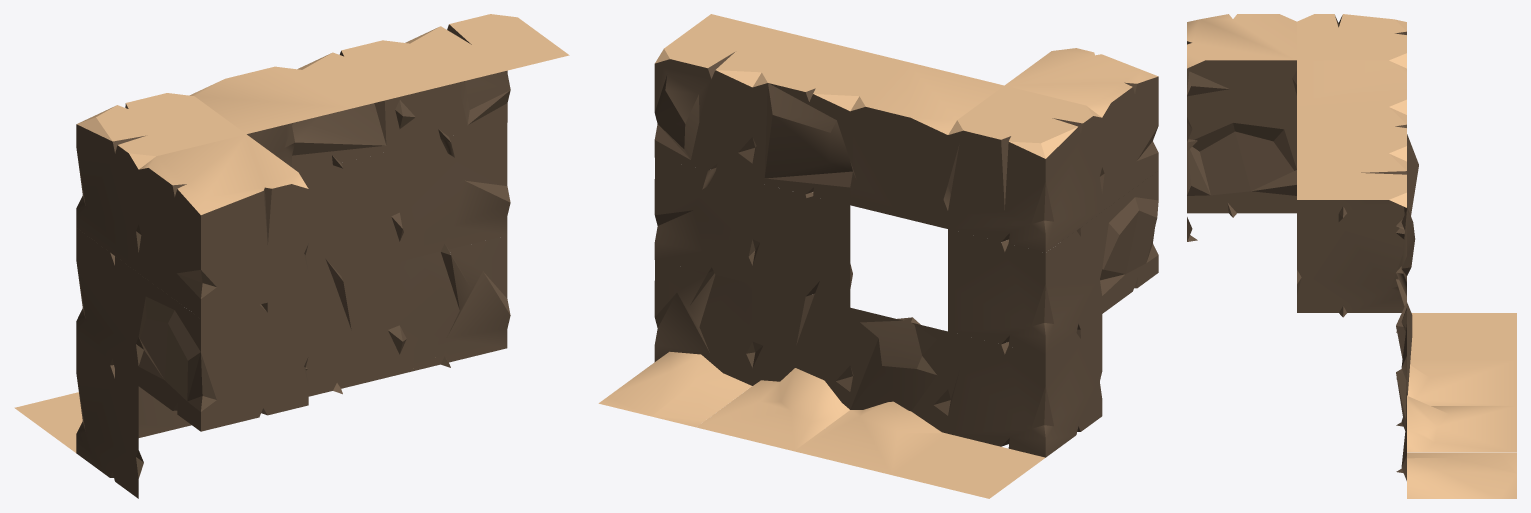
File: Modular_Rocks_Assets.FBX
3 views of the same model, side by side, from view 1: azimuth 30°, elevation 25°; view 2: azimuth 150°, elevation 25°; view 3: azimuth 270°, elevation 25° (orthographic). The views are drawn at different scales.
Parts seen in each view (by area): view 1: Rocks_Corner_01, Rocks_Corner_00, Rocks_Corner_04, Rock_Wall_00, Rock_Wall_04, Rocks_Corner_06, Rocks_Corner_07, Rock_Wall_03, Rock_Wall_01, Rocks_Corner_02, Rocks_Corner_05, Rocks_Corner_03 (+1 smaller); view 2: Rocks_Corner_04, Rocks_Corner_03, Rocks_Corner_02, Rocks_Corner_07, Rocks_Corner_06, Rocks_Corner_05, Rocks_Corner_01, Rock_Wall_03, Rock_Wall_04, Rock_Wall_02, Rock_Wall_00, Rock_Wall_01 (+5 smaller); view 3: Rocks_Corner_00, Rocks_Corner_01, Rocks_Corner_02, Rocks_Corner_06, Rocks_Corner_07, Rocks_Floor_03, Rocks_Corner_05, Rocks_Floor_00, Rocks_Floor_02, Rocks_Floor_01, Rocks_Corner_04, Rocks_Corner_03 (+3 smaller).
Boxes of the visible parts, x1=… form: Rocks_Corner_01: x1=138, y1=134, x2=308, y2=318; Rocks_Corner_00: x1=138, y1=274, x2=308, y2=431; Rocks_Corner_04: x1=76, y1=93, x2=245, y2=272; Rock_Wall_00: x1=399, y1=235, x2=510, y2=374; Rock_Wall_04: x1=399, y1=123, x2=510, y2=261; Rocks_Corner_06: x1=399, y1=14, x2=569, y2=148; Rocks_Corner_07: x1=292, y1=40, x2=461, y2=173; Rock_Wall_03: x1=299, y1=149, x2=402, y2=283; Rock_Wall_01: x1=305, y1=262, x2=402, y2=396; Rocks_Corner_02: x1=76, y1=341, x2=184, y2=498; Rocks_Corner_05: x1=189, y1=66, x2=353, y2=167; Rocks_Corner_03: x1=76, y1=228, x2=143, y2=385; Rocks_Corner_04: x1=948, y1=85, x2=1102, y2=252; Rocks_Corner_03: x1=948, y1=212, x2=1102, y2=355; Rocks_Corner_02: x1=948, y1=314, x2=1102, y2=457; Rocks_Corner_07: x1=752, y1=38, x2=906, y2=204; Rocks_Corner_06: x1=654, y1=14, x2=808, y2=181; Rocks_Corner_05: x1=850, y1=62, x2=1003, y2=228; Rocks_Corner_01: x1=1005, y1=48, x2=1158, y2=211; Rock_Wall_03: x1=752, y1=181, x2=852, y2=307; Rock_Wall_04: x1=654, y1=157, x2=755, y2=283; Rock_Wall_02: x1=850, y1=307, x2=950, y2=433; Rock_Wall_00: x1=654, y1=260, x2=755, y2=385; Rock_Wall_01: x1=752, y1=284, x2=852, y2=409; Rocks_Corner_00: x1=1187, y1=113, x2=1296, y2=241; Rocks_Corner_01: x1=1187, y1=14, x2=1296, y2=141; Rocks_Corner_02: x1=1297, y1=213, x2=1404, y2=332; Rocks_Corner_06: x1=1297, y1=153, x2=1415, y2=281; Rocks_Corner_07: x1=1297, y1=107, x2=1418, y2=226; Rocks_Floor_03: x1=1407, y1=396, x2=1516, y2=452; Rocks_Corner_05: x1=1297, y1=60, x2=1406, y2=114; Rocks_Floor_00: x1=1407, y1=452, x2=1516, y2=498; Rocks_Floor_02: x1=1407, y1=359, x2=1516, y2=405; Rocks_Floor_01: x1=1410, y1=313, x2=1516, y2=359; Rocks_Corner_04: x1=1297, y1=14, x2=1406, y2=68; Rocks_Corner_03: x1=1297, y1=200, x2=1404, y2=233.
Size of the model in its own units: 160 by 118 by 118.
